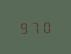nine: (18, 20, 28, 34)
seven: (30, 20, 40, 33)
zero: (41, 19, 51, 33)
